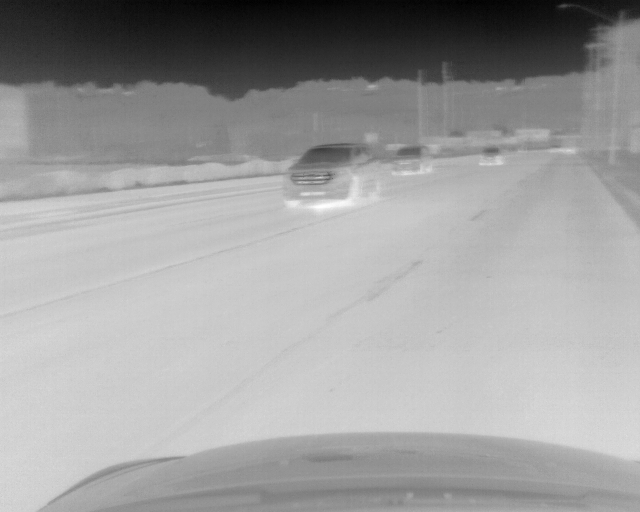car: (283, 143, 378, 203), (390, 145, 432, 173), (478, 146, 504, 165)
